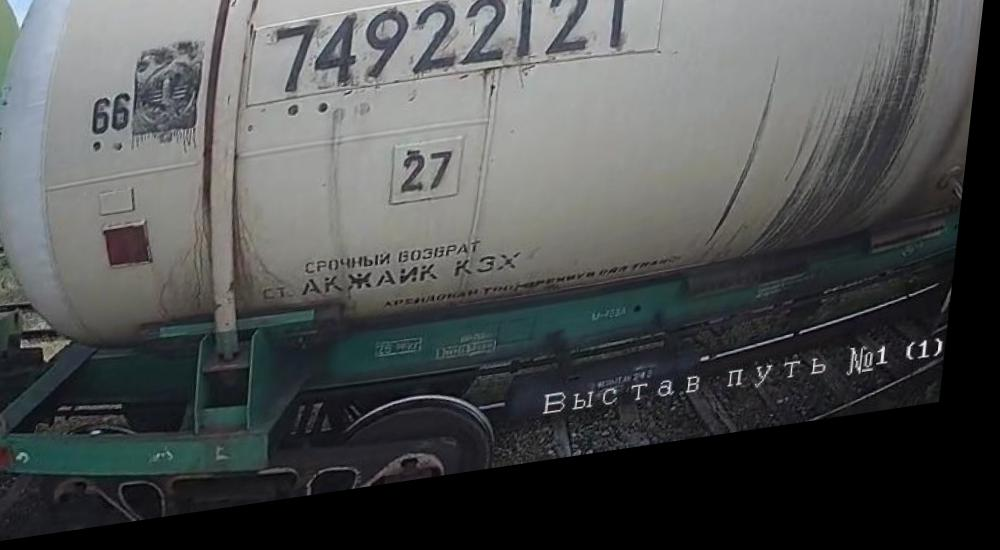Wagon-number: (263, 0, 636, 114)
